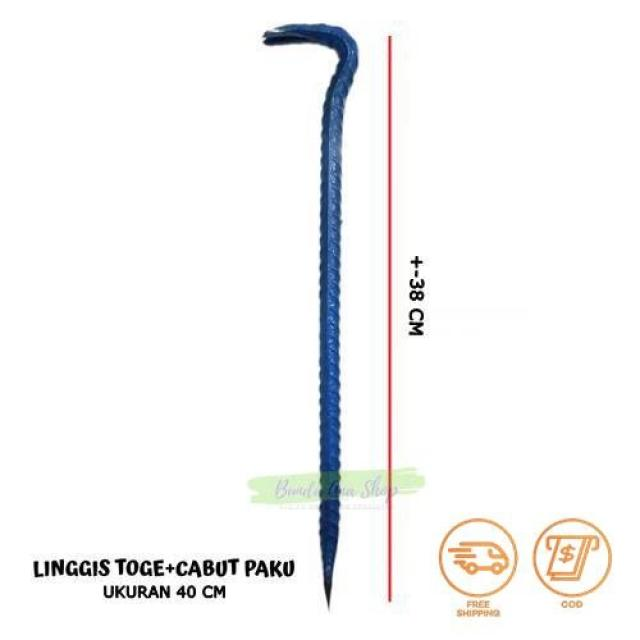Linggis: (263, 23, 364, 609)
